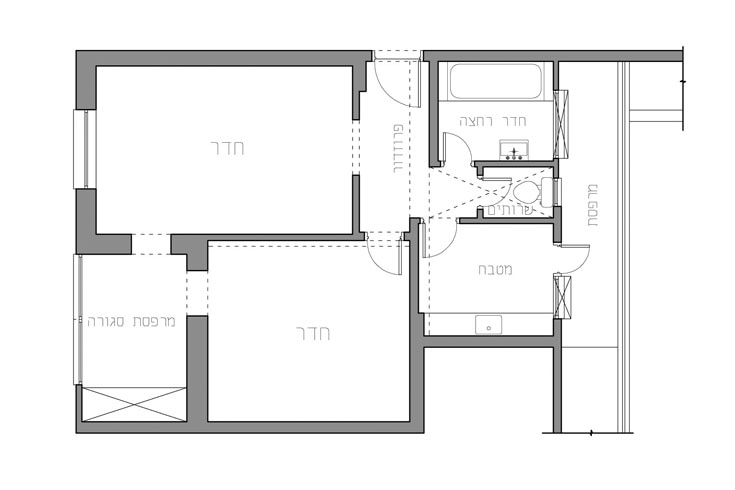door: (441, 128, 473, 167), (563, 239, 594, 274)
wall: (76, 50, 366, 66), (425, 51, 681, 60), (189, 315, 207, 431), (210, 424, 423, 432), (76, 189, 97, 256), (77, 420, 186, 432), (412, 314, 424, 422), (427, 338, 559, 347), (429, 62, 439, 166), (552, 350, 563, 433), (77, 71, 97, 111), (172, 235, 208, 254), (460, 218, 562, 224), (100, 235, 131, 253), (478, 162, 557, 166), (214, 236, 363, 238)
